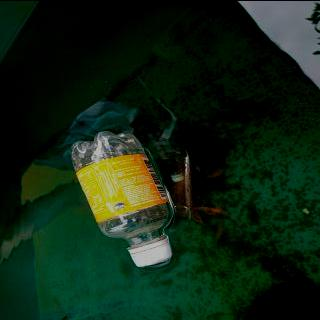bottle: (66, 126, 185, 270)
